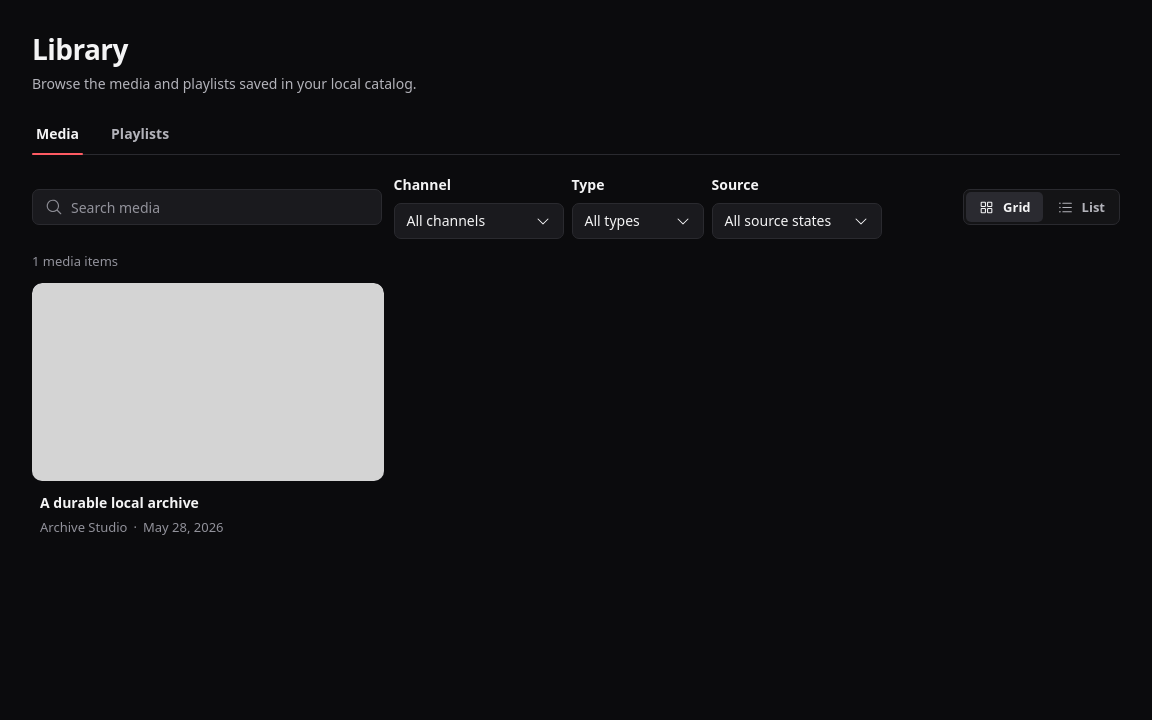
Test: Library Stage 5 route bodies › suppresses a stale search response after a newer debounced result wins
The width and height of the screenshot is (1152, 720).
Type "first" into the search field labelled "Search media" at (226, 207), box [71,190,380,224]
Wait 200 ms
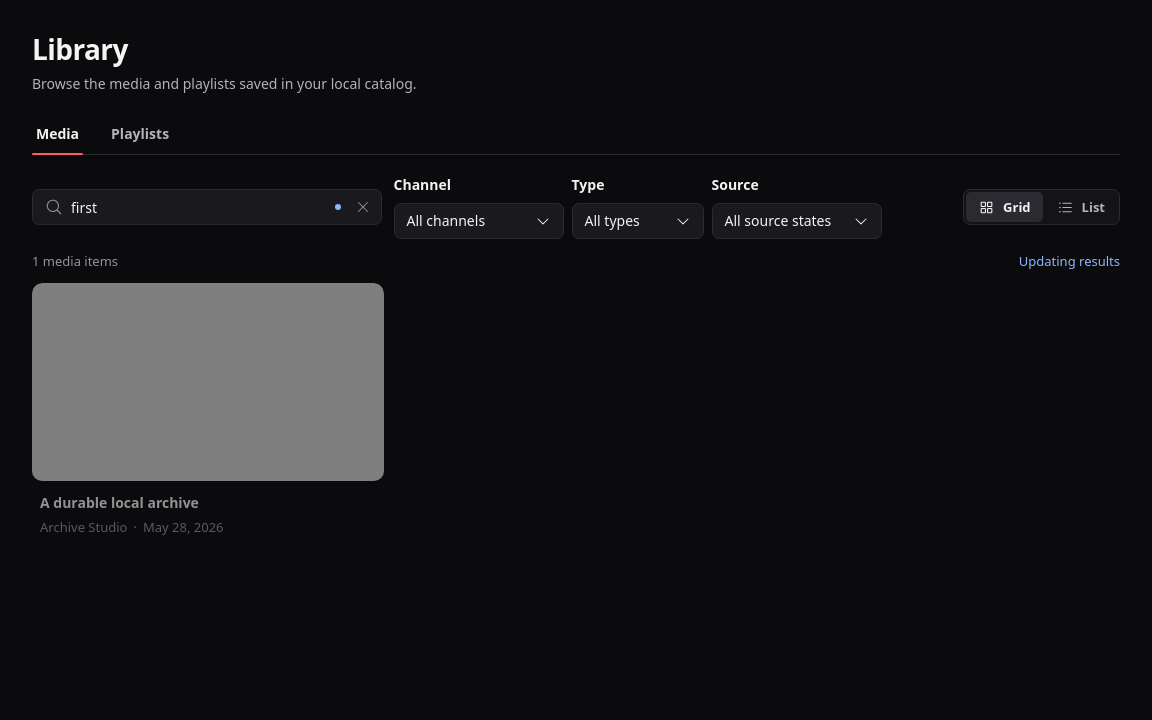
Replace the text in the search field named "Search media" with "second" at (226, 207), box [71,190,380,224]
Wait 200 ms
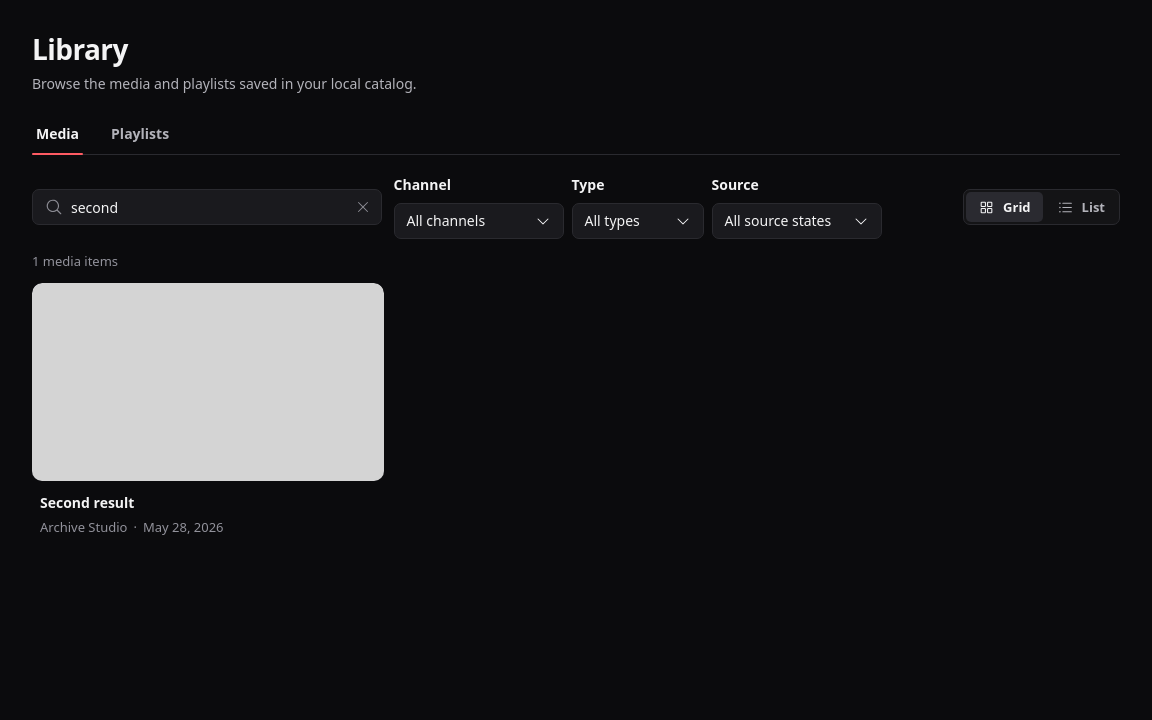
Now the text "Second result" is shown, box [40,493,134,512]
